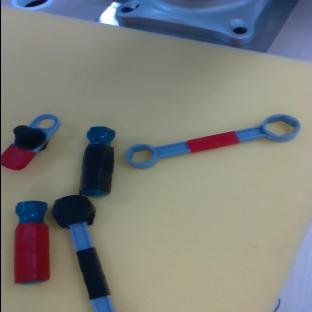part_1_good: (0, 101, 62, 180)
part_2_bad: (78, 124, 118, 199)
part_2_good: (13, 201, 49, 284)
part_3_bad: (48, 191, 114, 312)
part_3_good: (123, 110, 302, 172)
